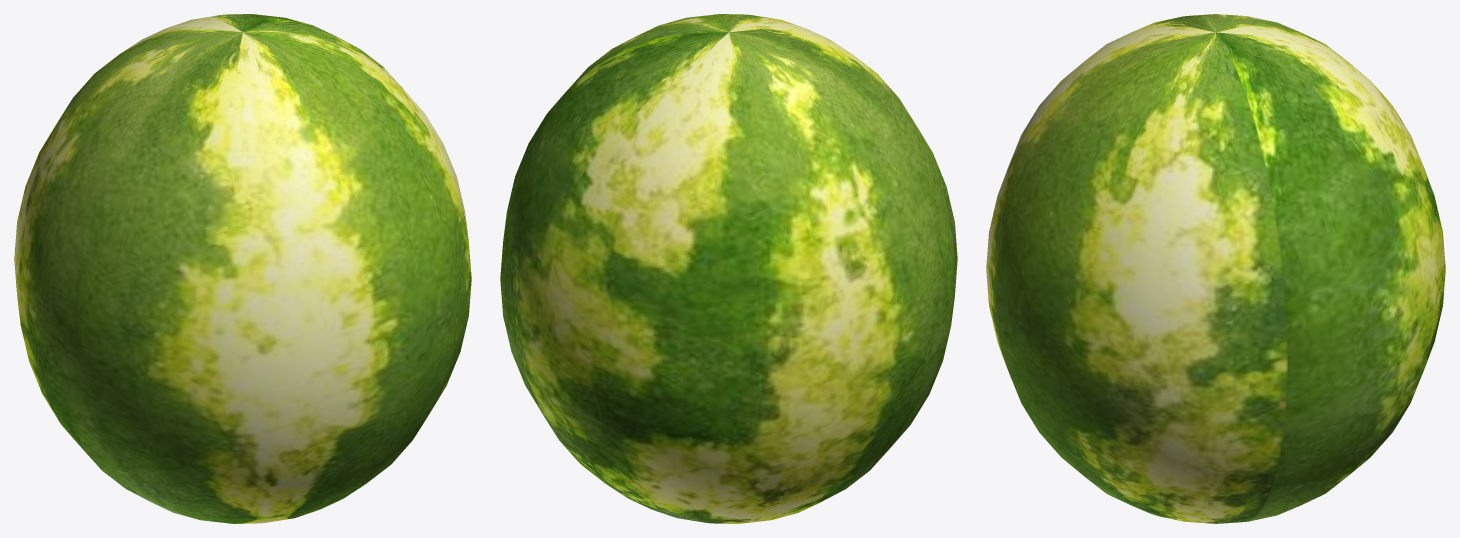
The model's file is watermelon.obj.
The picture shows the model from 3 angles, left to right: view 1: azimuth 30°, elevation 25°; view 2: azimuth 150°, elevation 25°; view 3: azimuth 270°, elevation 25°; orthographic projection.
Visible parts, largest first — view 1: pSphere1; view 2: pSphere1; view 3: pSphere1.
Part boxes in pixels (<box>): pSphere1: <box>14,14,471,523</box>; pSphere1: <box>500,14,957,523</box>; pSphere1: <box>986,14,1445,523</box>.
Bounding box in the file's own units: 2.34 × 2.66 × 2.34.
